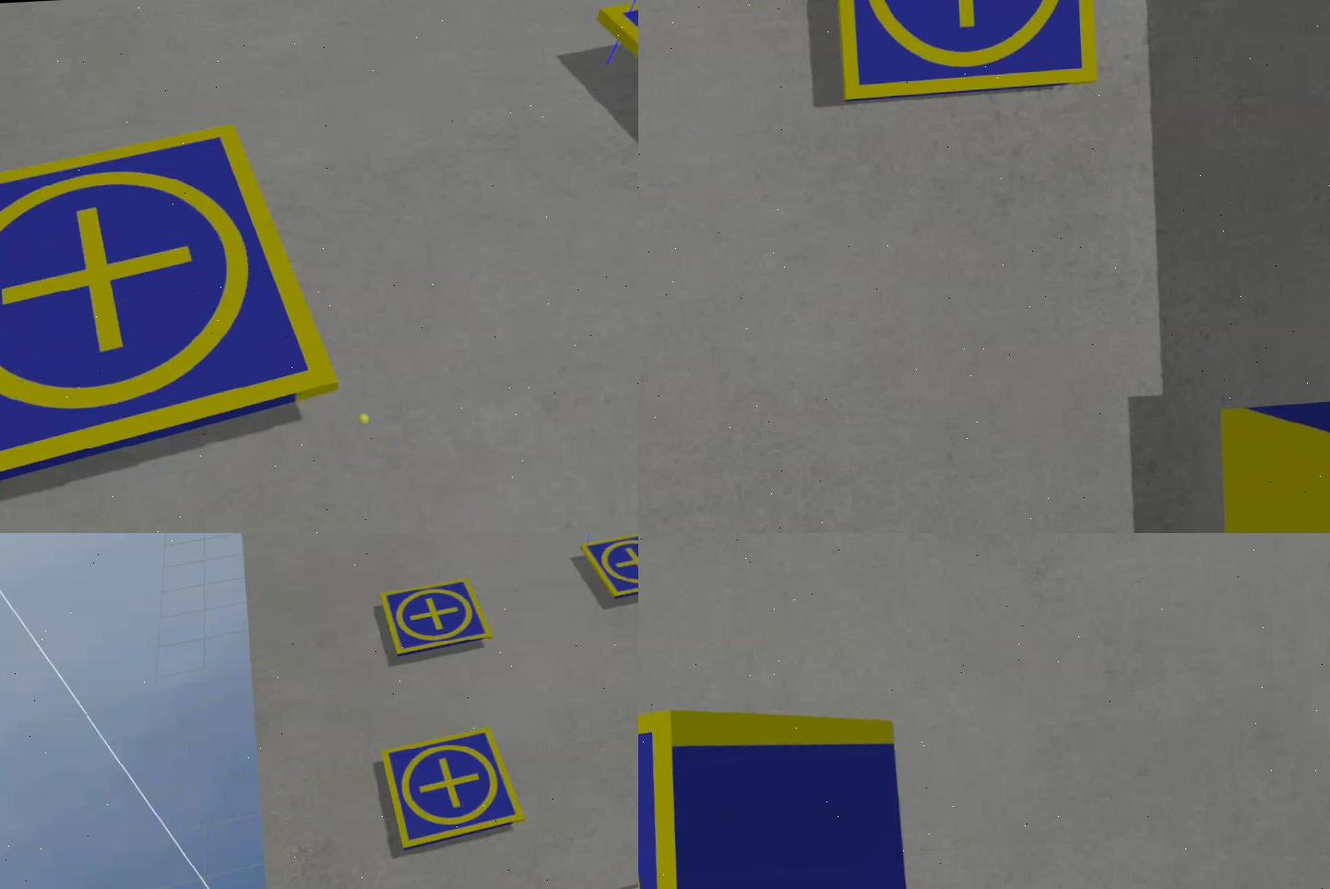small_base: (1, 118, 347, 508), (832, 1, 1101, 100), (381, 729, 523, 859), (377, 580, 493, 664), (639, 715, 694, 889), (583, 534, 639, 606)
